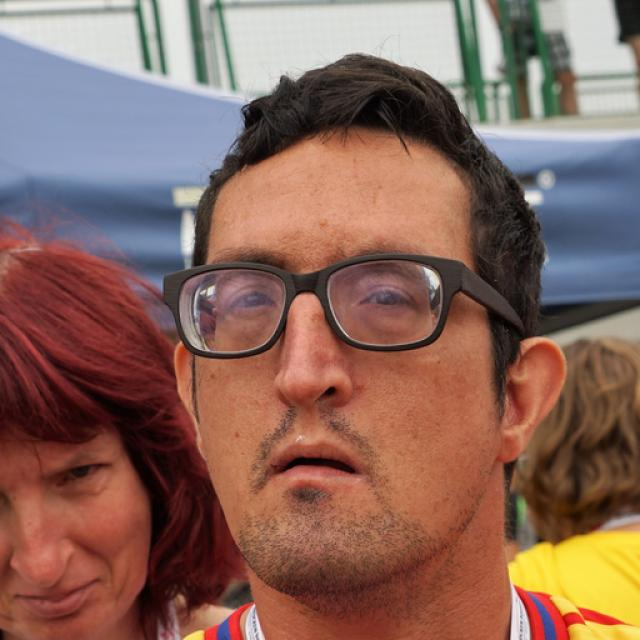Acne: (347, 375, 372, 395), (312, 215, 333, 232)
